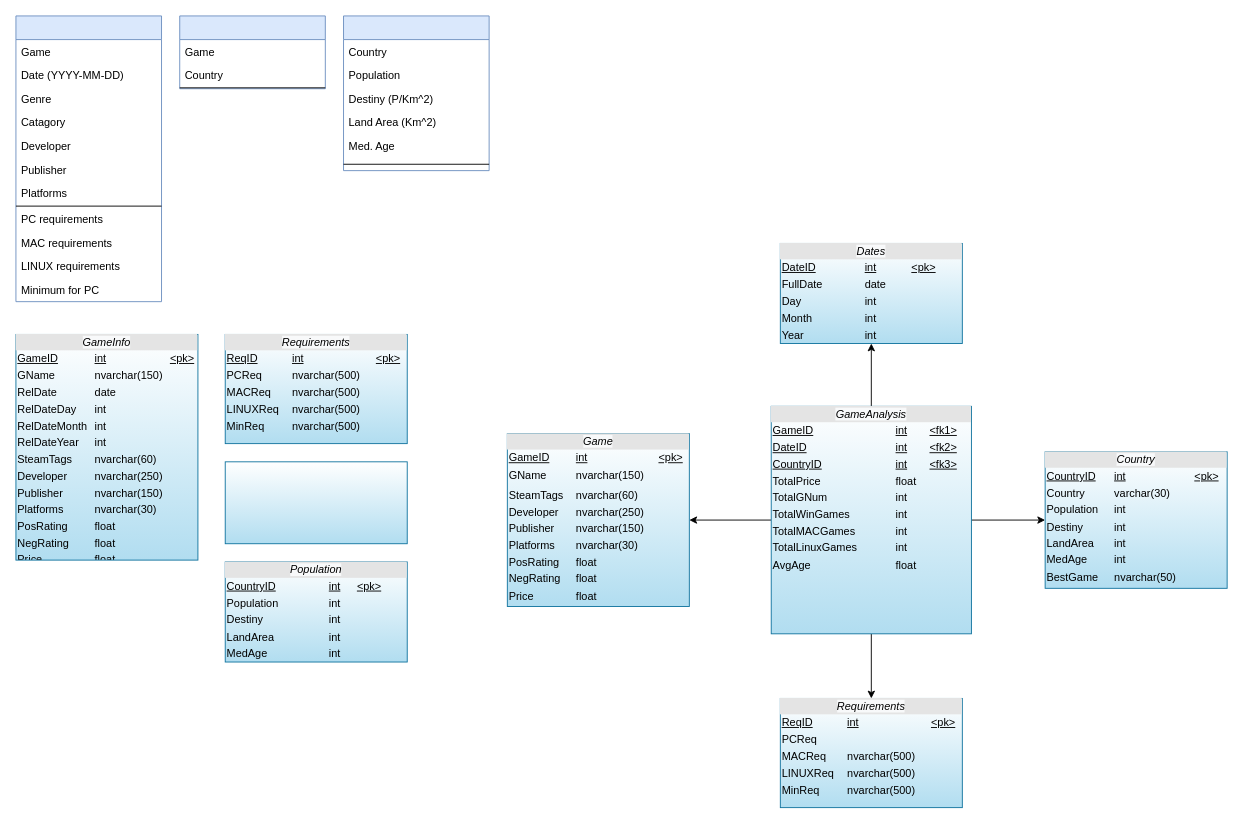
Image size: 1243x824. Some labels were removed from this diagram. Here are the shapes that lost their labels. From the top down, the box of each, then its label:
(179, 15, 325, 89): The Most Popular VG ITW
(343, 15, 489, 171): Population by country - 2020
(15, 15, 162, 302): Steam Store Games
(224, 461, 407, 544): BestCountryGame CountryID int <pk> Country varchar(30) BestGame nvarchar(50)
